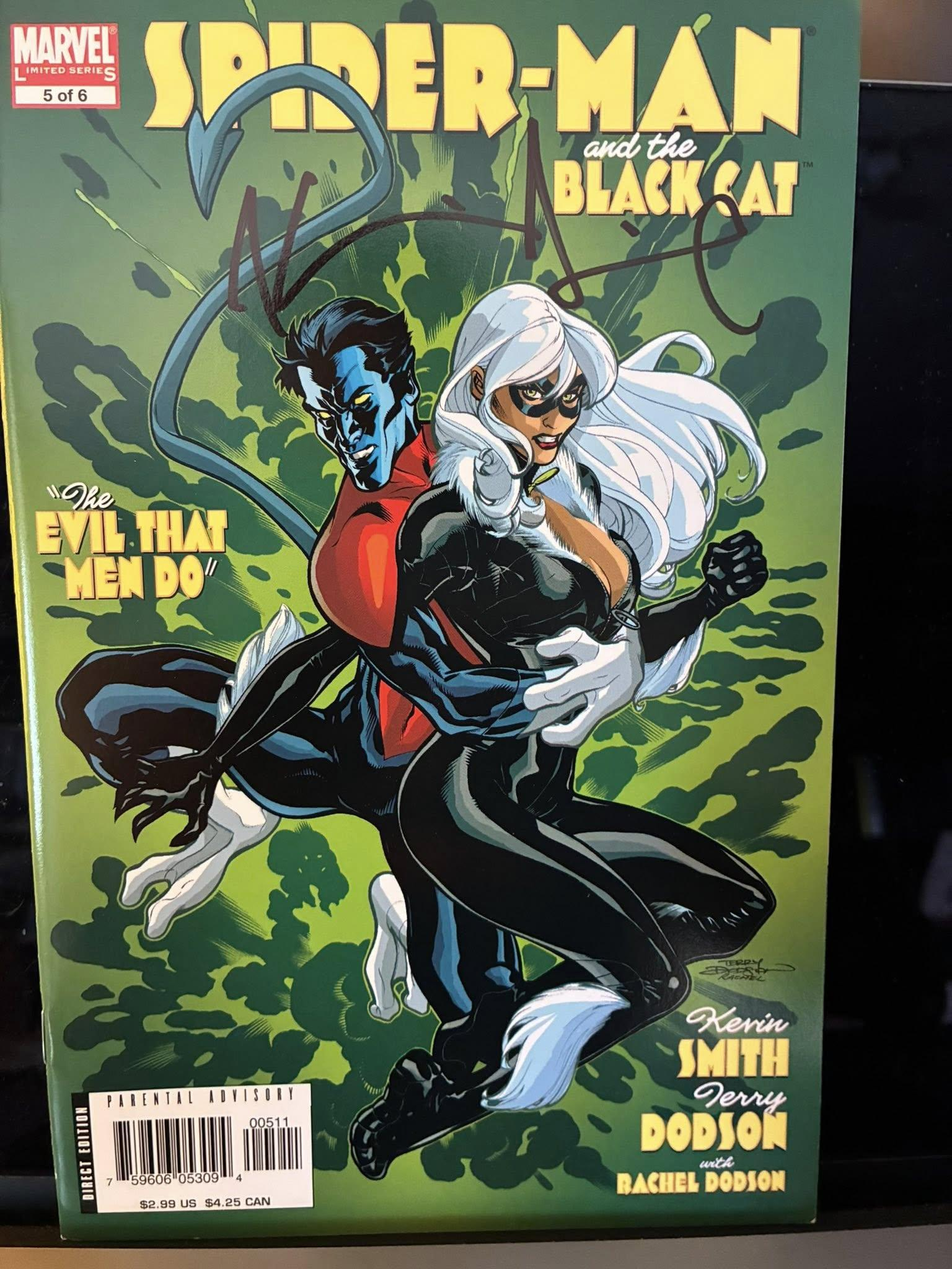comic: (0, 0, 857, 1239)
